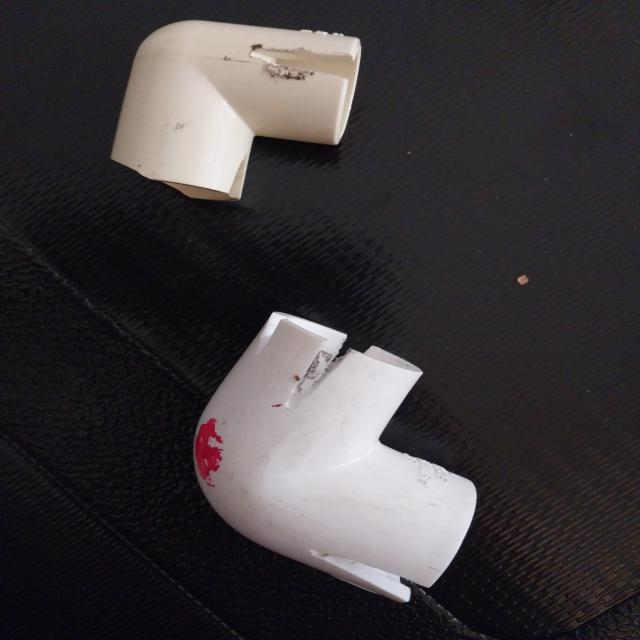Defective: (299, 541, 442, 599), (198, 110, 280, 194), (250, 40, 360, 82), (375, 366, 434, 441), (194, 421, 233, 491), (295, 347, 356, 389), (225, 134, 255, 202)
L Joint: (192, 313, 479, 605), (101, 21, 368, 207)
